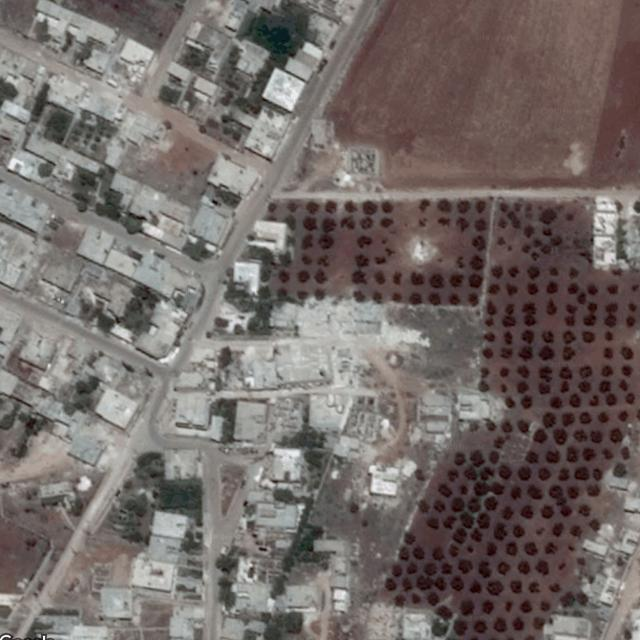damaged_building: (270, 298, 378, 339)
